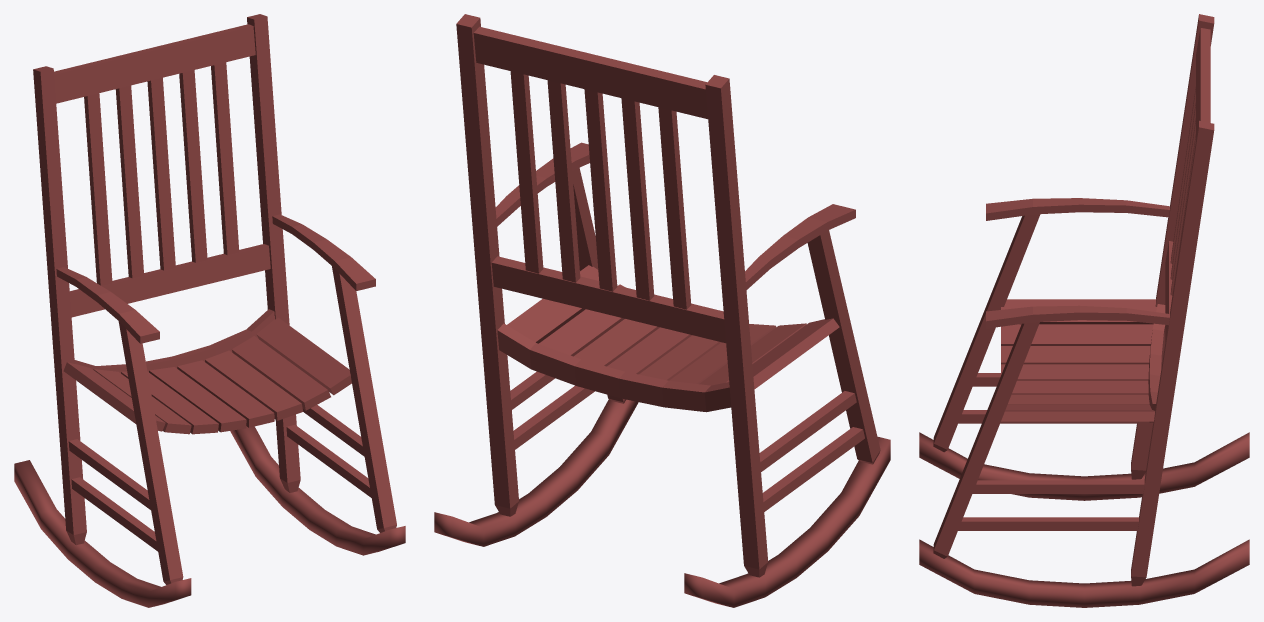
Rendered from Silla.fbx.
3 views of the same model, side by side, from view 1: azimuth 30°, elevation 25°; view 2: azimuth 150°, elevation 25°; view 3: azimuth 270°, elevation 25° (orthographic). The views are drawn at different scales.
Parts seen in each view (by area): view 1: Cube.003; view 2: Cube.003; view 3: Cube.003.
Boxes of the visible parts, bbox=[...] form: Cube.003: bbox=[14, 14, 405, 607]; Cube.003: bbox=[434, 14, 890, 607]; Cube.003: bbox=[919, 14, 1249, 607].
Bounding box in the file's own units: 0.8268 × 1.57 × 0.9814.
